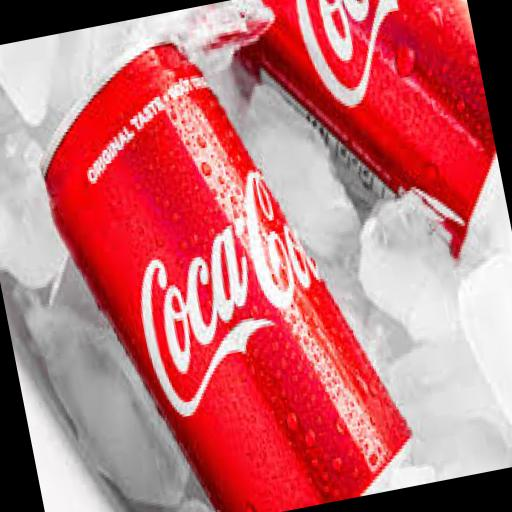Coca: (6, 3, 421, 512), (219, 0, 512, 322)
